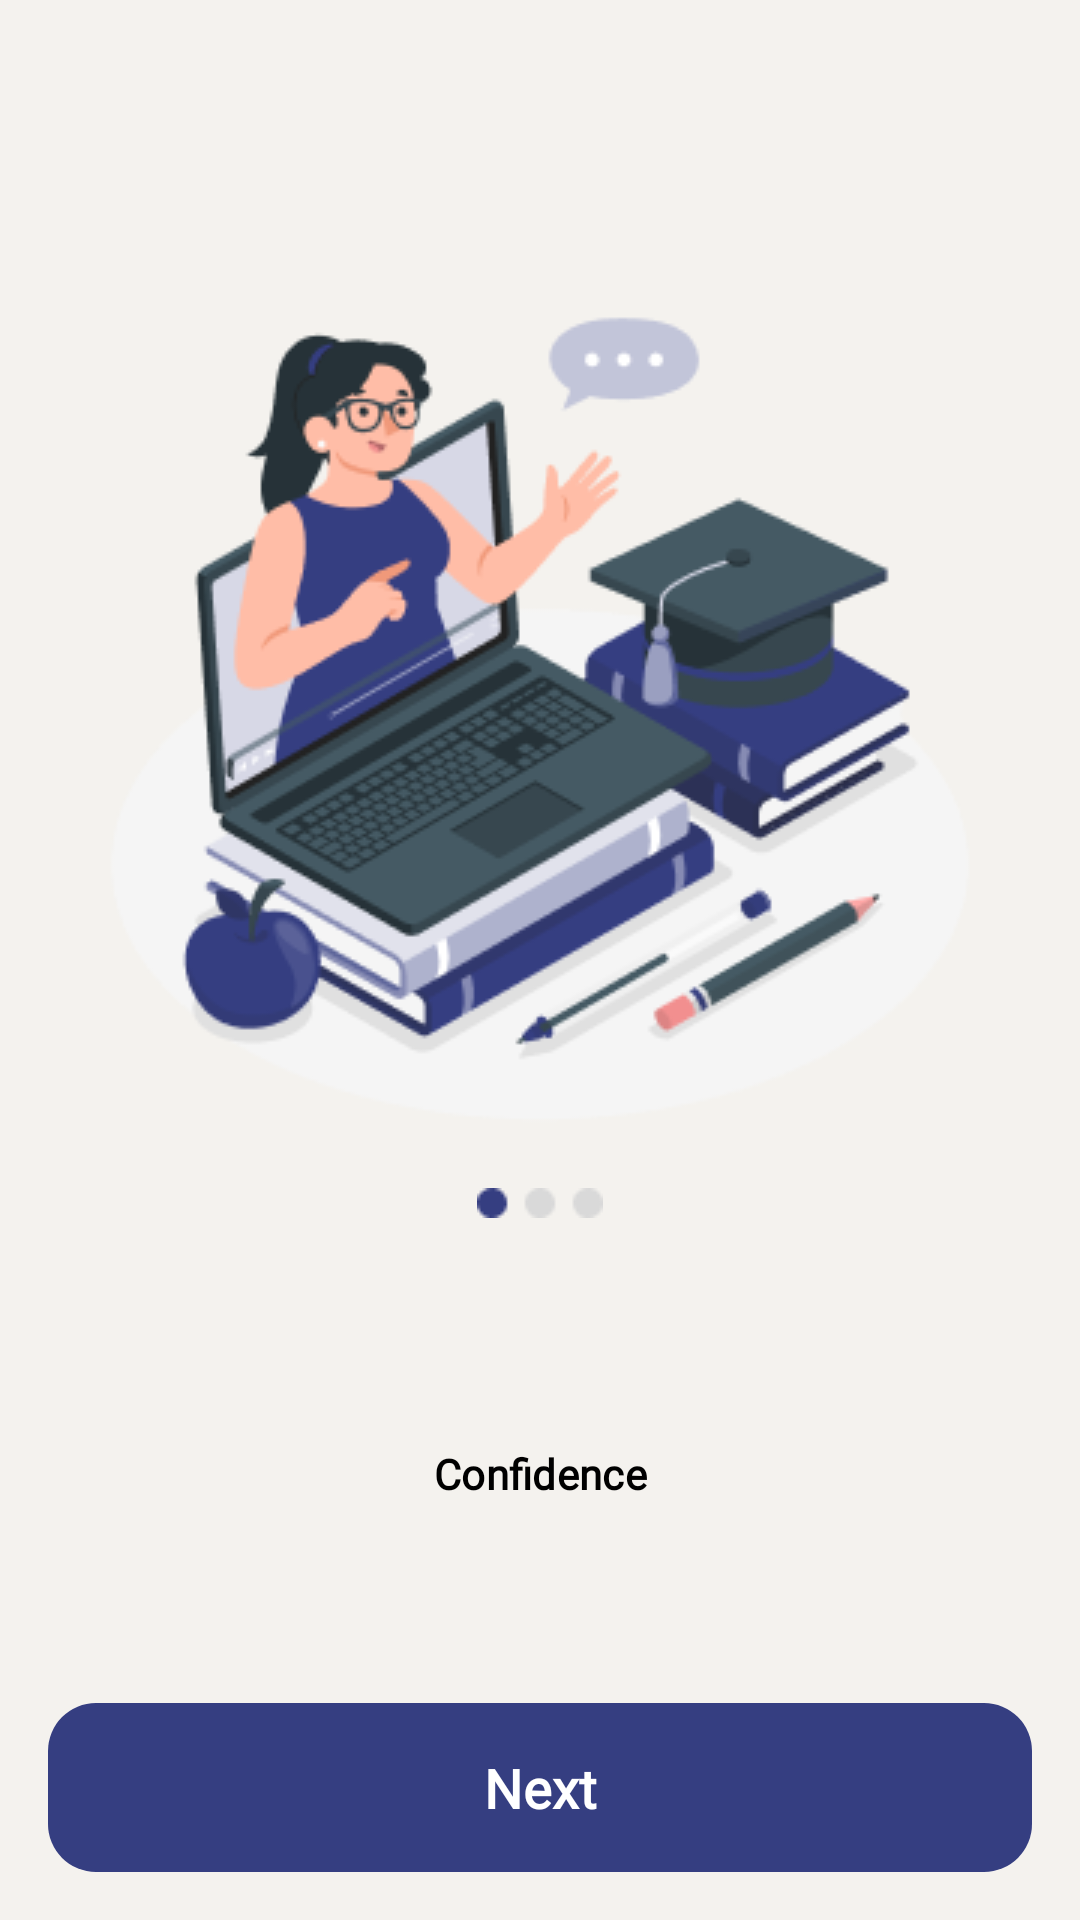

Locate icon controls on the screen. Image size 1080 × 1920, boxes as region(x1, y1, x2, y2).
Progress dot: region(477, 1188, 603, 1218)
